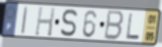6: (82, 9, 98, 40)
B: (103, 9, 126, 42)
H: (34, 5, 57, 38)
I: (20, 5, 30, 36)
L: (125, 13, 141, 41)
S: (59, 8, 79, 38)
